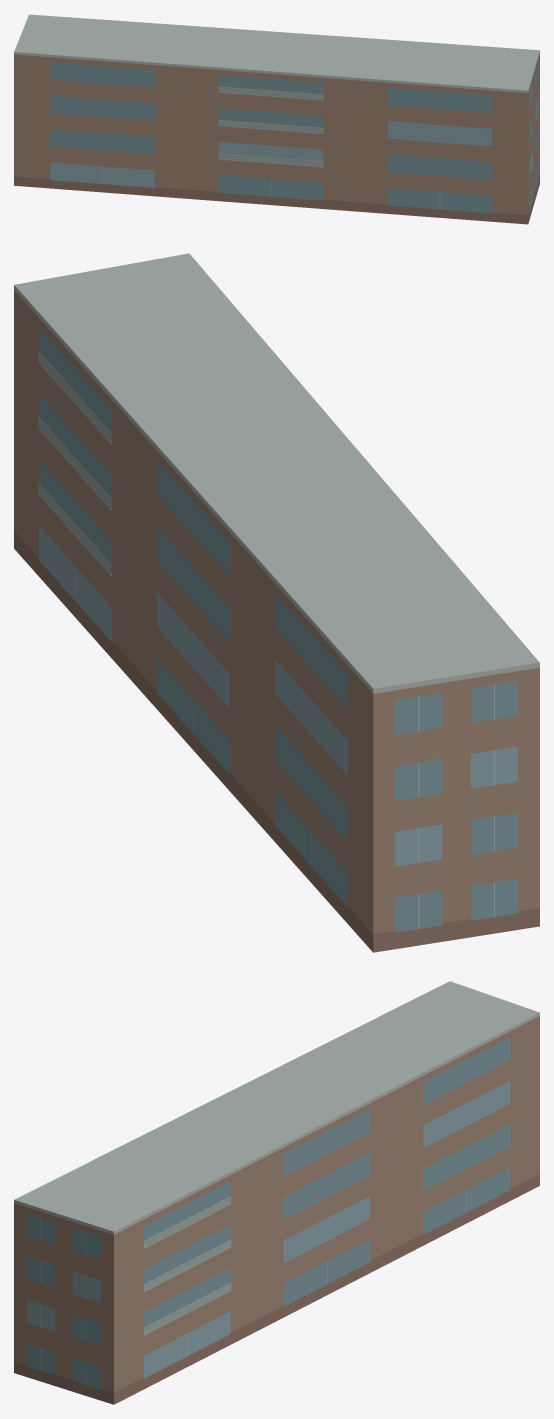
Rendered from survey-upis-32763508.glb.
3 views of the same model, one above another, from view 1: azimuth 30°, elevation 25°; view 2: azimuth 150°, elevation 25°; view 3: azimuth 270°, elevation 25° (orthographic). The views are drawn at different scales.
Visible parts, largest first — view 1: survey-upis-32763508.tmp; view 2: survey-upis-32763508.tmp; view 3: survey-upis-32763508.tmp.
Part boxes in pixels (x1=…): survey-upis-32763508.tmp: x1=14, y1=14, x2=539, y2=224; survey-upis-32763508.tmp: x1=14, y1=253, x2=539, y2=952; survey-upis-32763508.tmp: x1=14, y1=981, x2=539, y2=1404.
Bounding box in the file's own units: 40.01 × 12.9 × 35.5.
